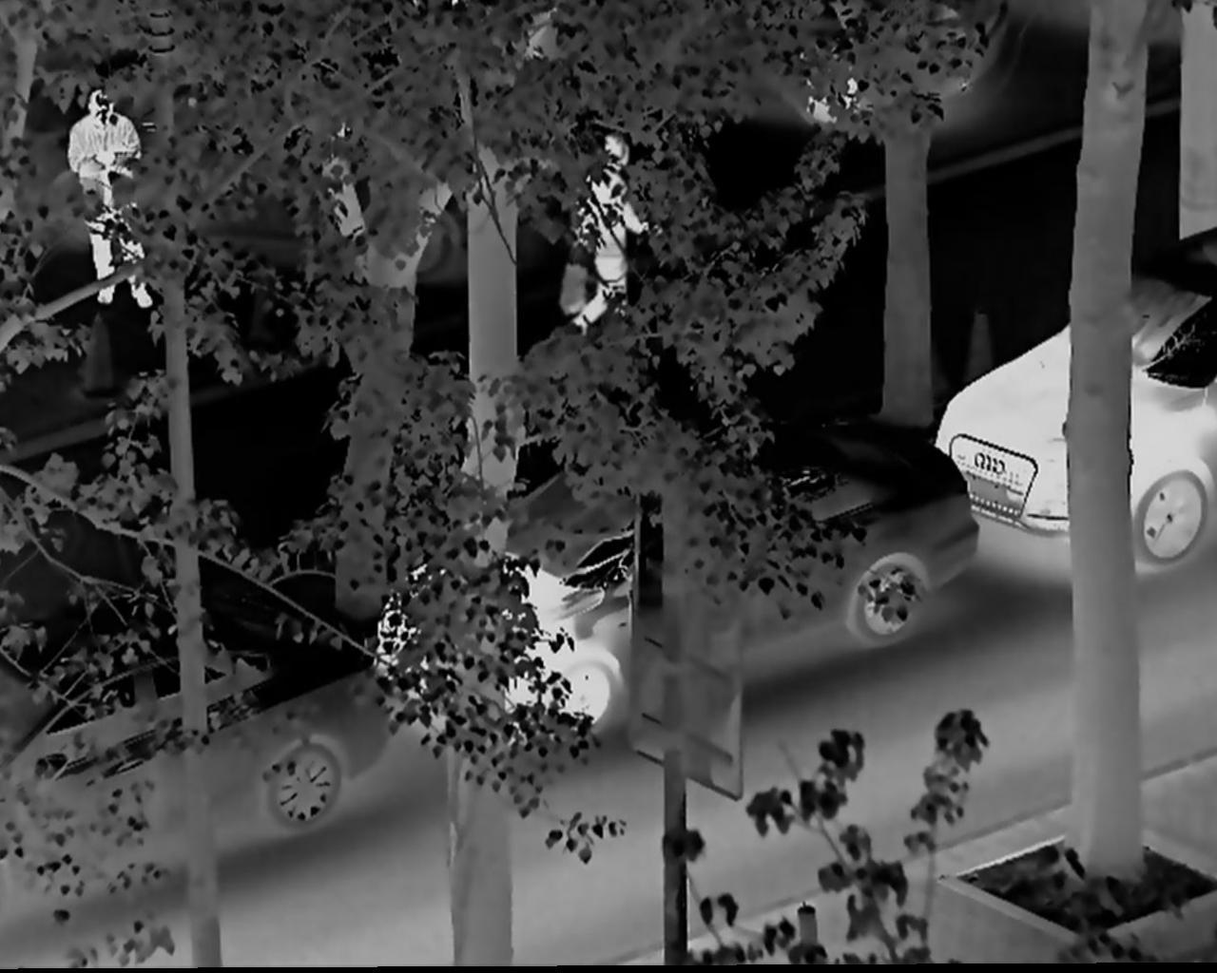person: (60, 85, 162, 311), (567, 126, 649, 346)
